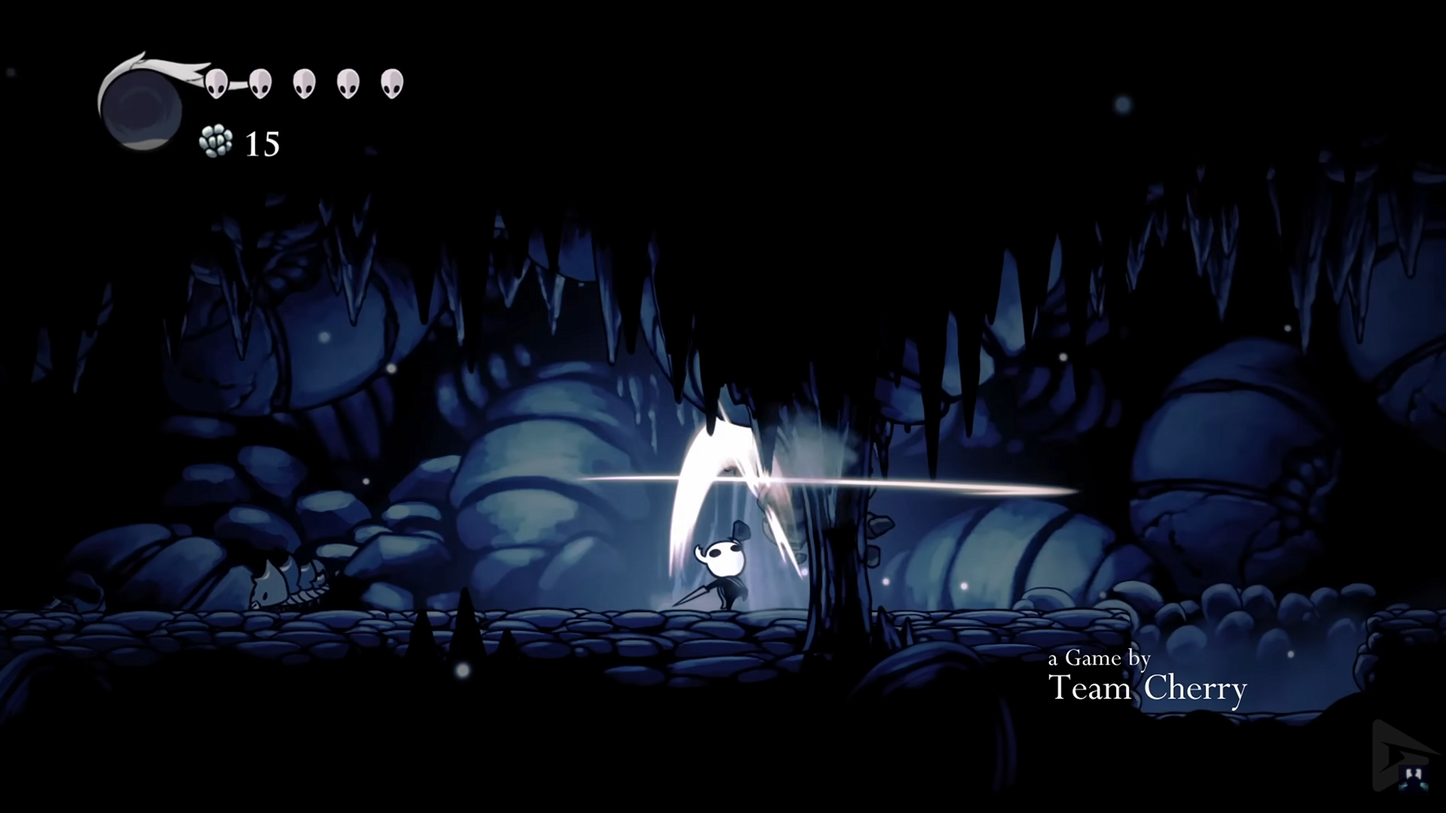HK: (691, 522, 754, 614)
